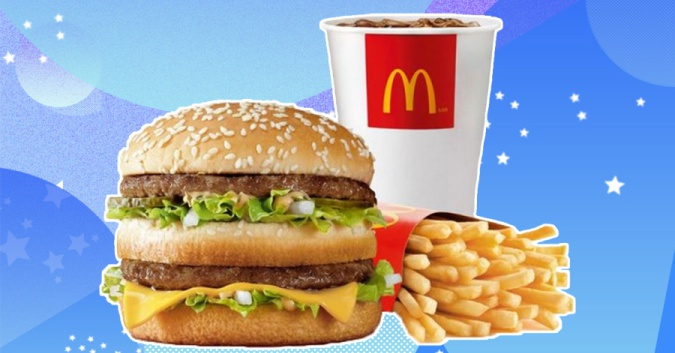mcdonalds: (375, 62, 444, 117)
